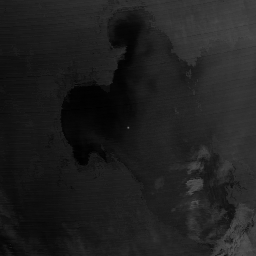Target: (125, 124, 130, 129)
